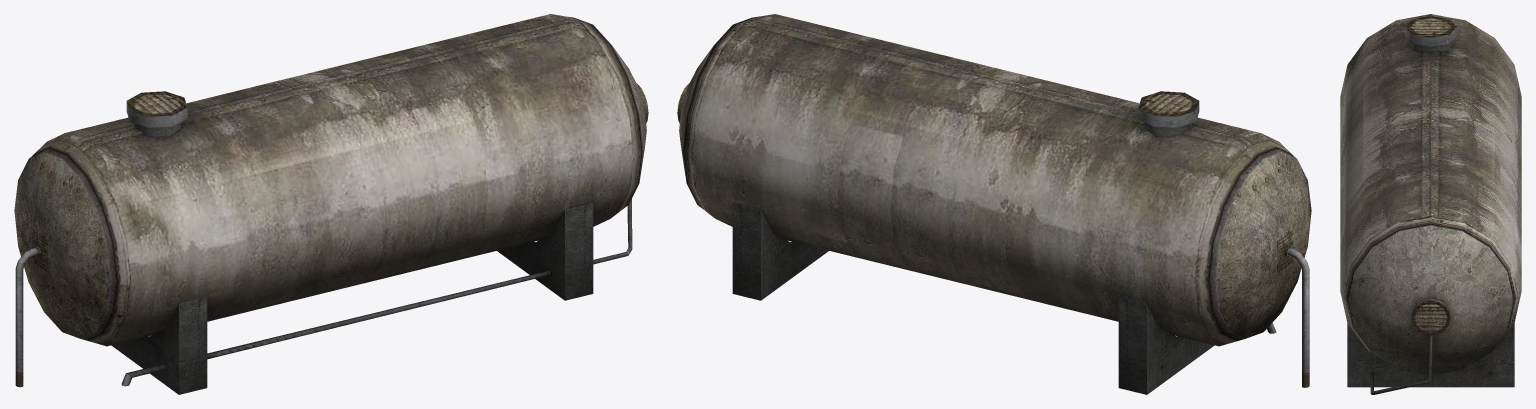
File: horizontalcoolingtank04.glb
The picture shows the model from 3 angles, left to right: view 1: azimuth 30°, elevation 25°; view 2: azimuth 150°, elevation 25°; view 3: azimuth 270°, elevation 25°; orthographic projection. The views are drawn at different scales.
Parts seen in each view (by area): view 1: 0_horizontalcoolingtank04; view 2: 0_horizontalcoolingtank04; view 3: 0_horizontalcoolingtank04.
Boxes of the visible parts, x1,y1,x2,y2 form: 0_horizontalcoolingtank04: (14,14,648,394); 0_horizontalcoolingtank04: (677,14,1311,394); 0_horizontalcoolingtank04: (1340,14,1521,394).
Size of the model in its own units: 7.99 by 3.07 by 2.44.
Materials: 1 (1 with a texture image).
